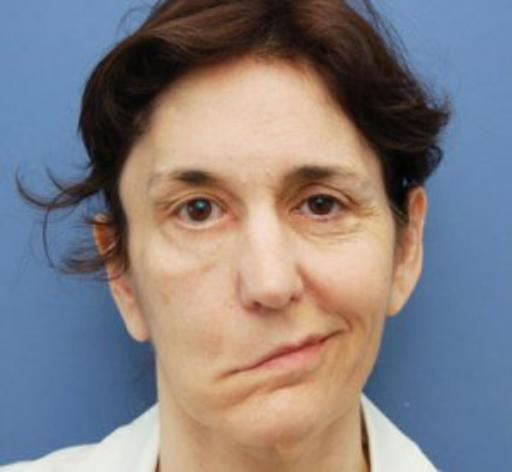left_eye: (289, 193, 355, 223)
left_lip_corner: (324, 322, 350, 347)
right_eye: (170, 197, 237, 233)
right_lip_corner: (219, 352, 255, 389)
